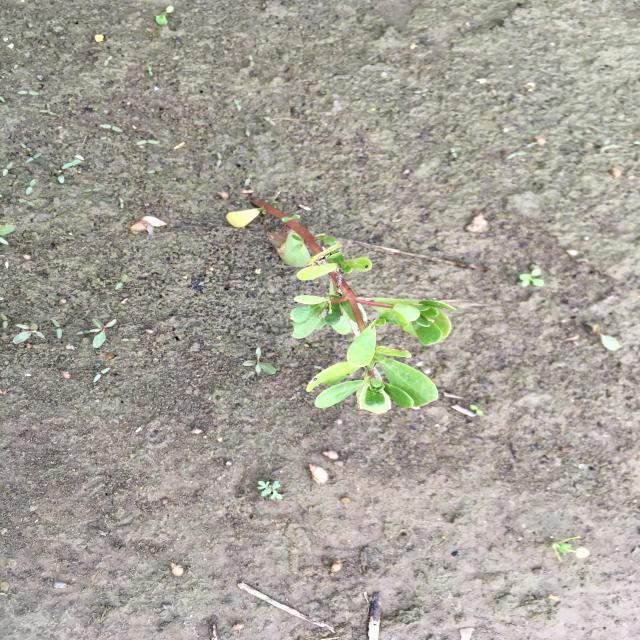Purslane: (246, 196, 459, 416)
